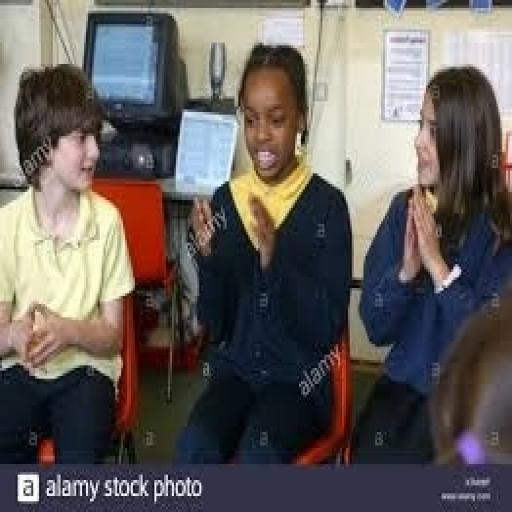clapping: (174, 40, 354, 464), (354, 62, 510, 462), (0, 61, 137, 464)
